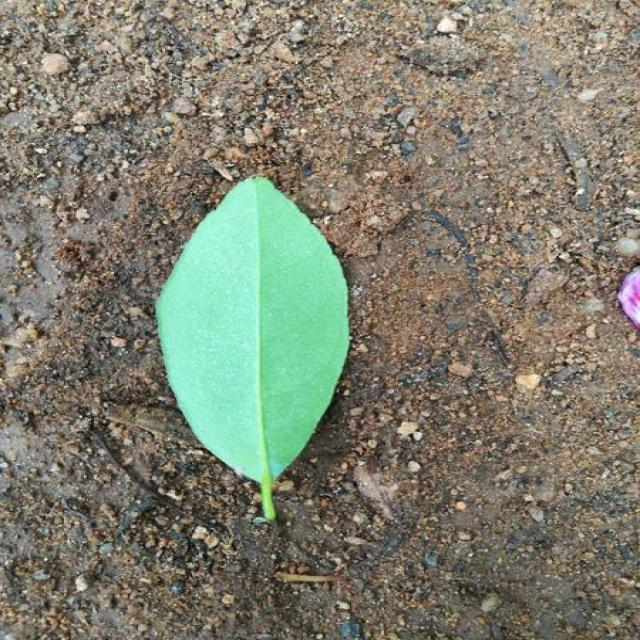citron lime: (157, 178, 348, 519)
